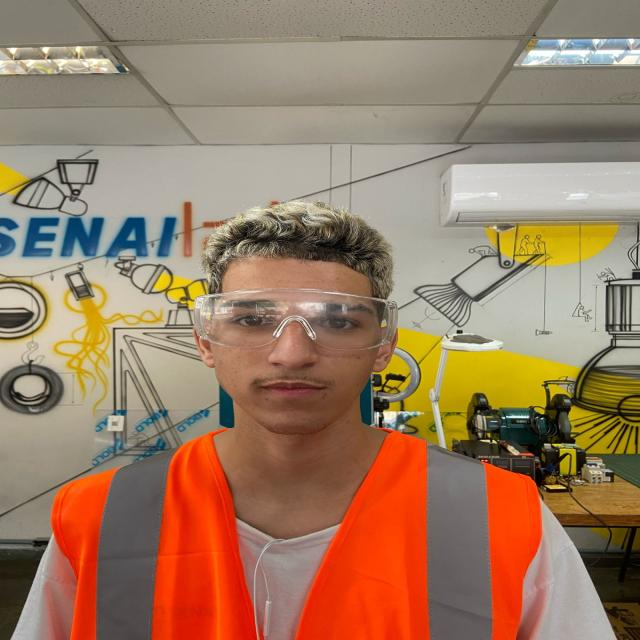COLETE: (289, 426, 543, 640), (57, 421, 289, 640)
OCULOS: (189, 288, 409, 358)
